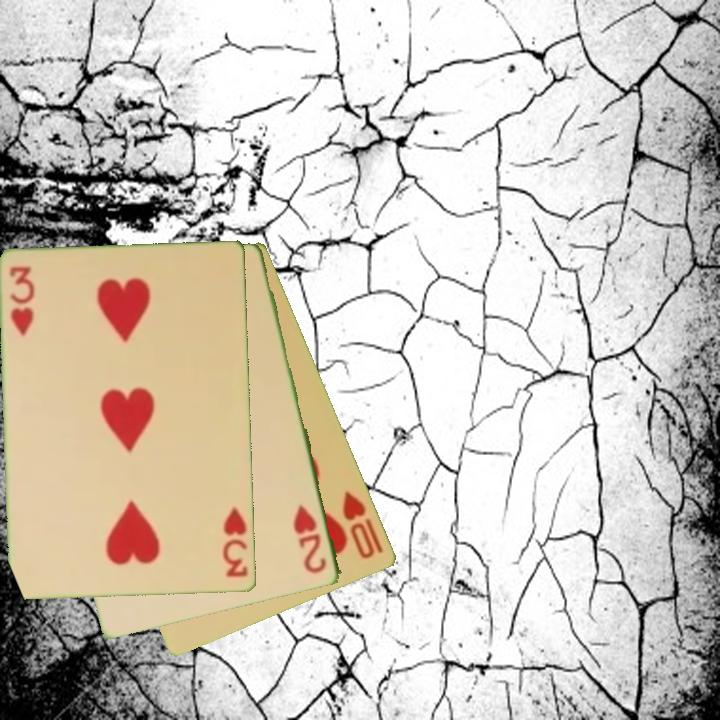10h: (339, 487, 378, 563)
2h: (290, 500, 330, 577)
3h: (220, 503, 252, 581), (7, 263, 37, 340)
